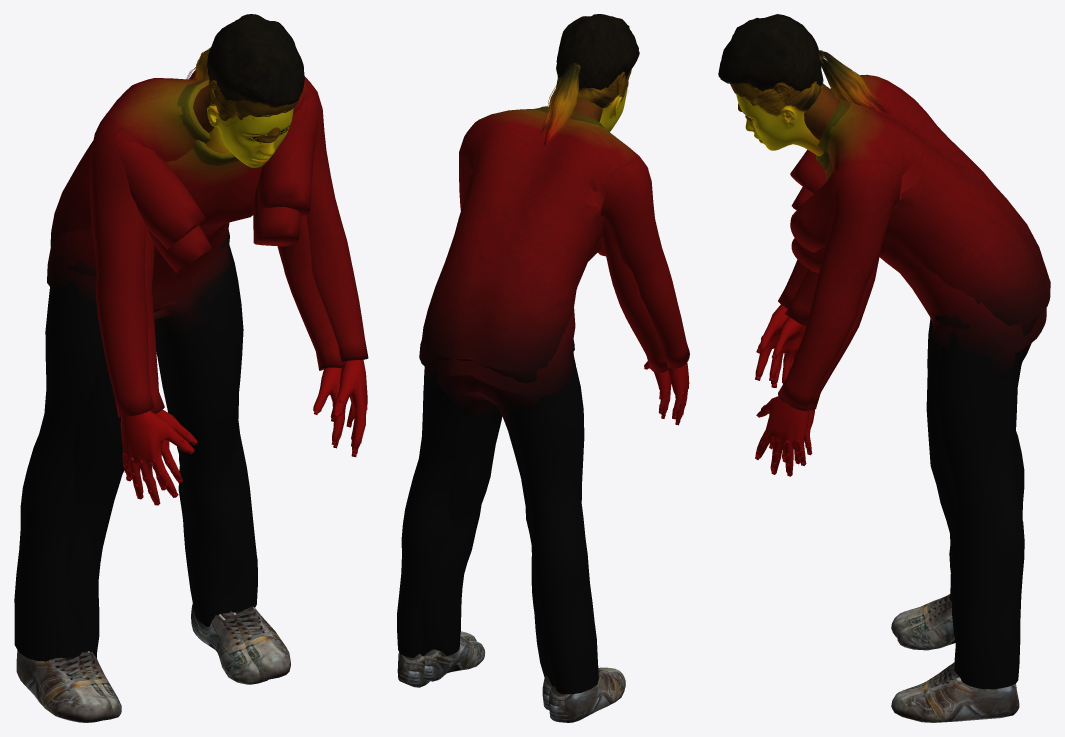
Rendered from rescuer.glb.
3 views of the same model, side by side, from view 1: azimuth 30°, elevation 25°; view 2: azimuth 150°, elevation 25°; view 3: azimuth 270°, elevation 25° (orthographic). The views are drawn at different scales.
Visible parts, largest first — view 1: rescuer_f_cpr_scrubs, rescuer_m_cpr_scrubs, rescuer_m_idle_scrubs, rescuer_f_idle_scrubs, rescuer_m_cpr_hair, rescuer_m_cpr_shoes, rescuer_m_idle_gloves, rescuer_f_cpr_shoes, rescuer_f_cpr_skin, rescuer_f_idle_gloves, rescuer_m_cpr_skin, rescuer_f_cpr_hair; view 2: rescuer_m_cpr_scrubs, rescuer_m_idle_scrubs, rescuer_f_cpr_scrubs, rescuer_m_cpr_hair, rescuer_m_cpr_shoes, rescuer_f_idle_scrubs, rescuer_f_cpr_hair, rescuer_f_cpr_shoes, rescuer_m_idle_gloves, rescuer_m_cpr_skin, rescuer_f_idle_gloves, rescuer_f_cpr_skin; view 3: rescuer_m_cpr_scrubs, rescuer_m_idle_scrubs, rescuer_f_cpr_scrubs, rescuer_m_cpr_hair, rescuer_m_cpr_shoes, rescuer_m_idle_gloves, rescuer_f_cpr_hair, rescuer_f_cpr_skin, rescuer_f_idle_scrubs, rescuer_f_cpr_shoes, rescuer_f_idle_gloves, rescuer_m_cpr_skin.
Part boxes in pixels (x1=…): rescuer_f_cpr_scrubs: x1=47, y1=140, x2=300, y2=658; rescuer_m_cpr_scrubs: x1=14, y1=80, x2=319, y2=661; rescuer_m_idle_scrubs: x1=90, y1=76, x2=368, y2=417; rescuer_f_idle_scrubs: x1=144, y1=140, x2=347, y2=413; rescuer_m_cpr_hair: x1=207, y1=14, x2=304, y2=107; rescuer_m_cpr_shoes: x1=16, y1=606, x2=290, y2=722; rescuer_m_idle_gloves: x1=120, y1=359, x2=367, y2=505; rescuer_f_cpr_shoes: x1=79, y1=603, x2=268, y2=720; rescuer_f_cpr_skin: x1=205, y1=104, x2=293, y2=167; rescuer_f_idle_gloves: x1=152, y1=367, x2=345, y2=490; rescuer_m_cpr_skin: x1=193, y1=80, x2=297, y2=143; rescuer_f_cpr_hair: x1=186, y1=47, x2=239, y2=120; rescuer_m_cpr_scrubs: x1=397, y1=106, x2=648, y2=694; rescuer_m_idle_scrubs: x1=459, y1=106, x2=689, y2=368; rescuer_f_cpr_scrubs: x1=419, y1=244, x2=605, y2=686; rescuer_m_cpr_hair: x1=556, y1=14, x2=639, y2=90; rescuer_m_cpr_shoes: x1=397, y1=631, x2=625, y2=722; rescuer_f_idle_scrubs: x1=588, y1=219, x2=669, y2=373; rescuer_f_cpr_hair: x1=540, y1=63, x2=628, y2=146; rescuer_f_cpr_shoes: x1=423, y1=636, x2=551, y2=709; rescuer_m_idle_gloves: x1=668, y1=362, x2=689, y2=425; rescuer_m_cpr_skin: x1=568, y1=67, x2=631, y2=121; rescuer_f_idle_gloves: x1=644, y1=361, x2=671, y2=418; rescuer_f_cpr_skin: x1=556, y1=86, x2=627, y2=131; rescuer_m_cpr_scrubs: x1=790, y1=99, x2=1050, y2=689; rescuer_m_idle_scrubs: x1=778, y1=74, x2=964, y2=411; rescuer_f_cpr_scrubs: x1=791, y1=151, x2=1046, y2=642; rescuer_m_cpr_hair: x1=718, y1=14, x2=823, y2=91; rescuer_m_cpr_shoes: x1=891, y1=594, x2=1019, y2=722; rescuer_m_idle_gloves: x1=755, y1=304, x2=809, y2=476; rescuer_f_cpr_hair: x1=746, y1=50, x2=888, y2=116; rescuer_f_cpr_skin: x1=736, y1=94, x2=823, y2=155; rescuer_f_idle_scrubs: x1=784, y1=150, x2=896, y2=410; rescuer_f_cpr_shoes: x1=897, y1=601, x2=955, y2=689; rescuer_f_idle_gloves: x1=769, y1=317, x2=814, y2=464; rescuer_m_cpr_skin: x1=730, y1=81, x2=839, y2=140.
Size of the model in its own units: 0.5559 by 1.58 by 0.7193.
11 materials, 10 textured.
